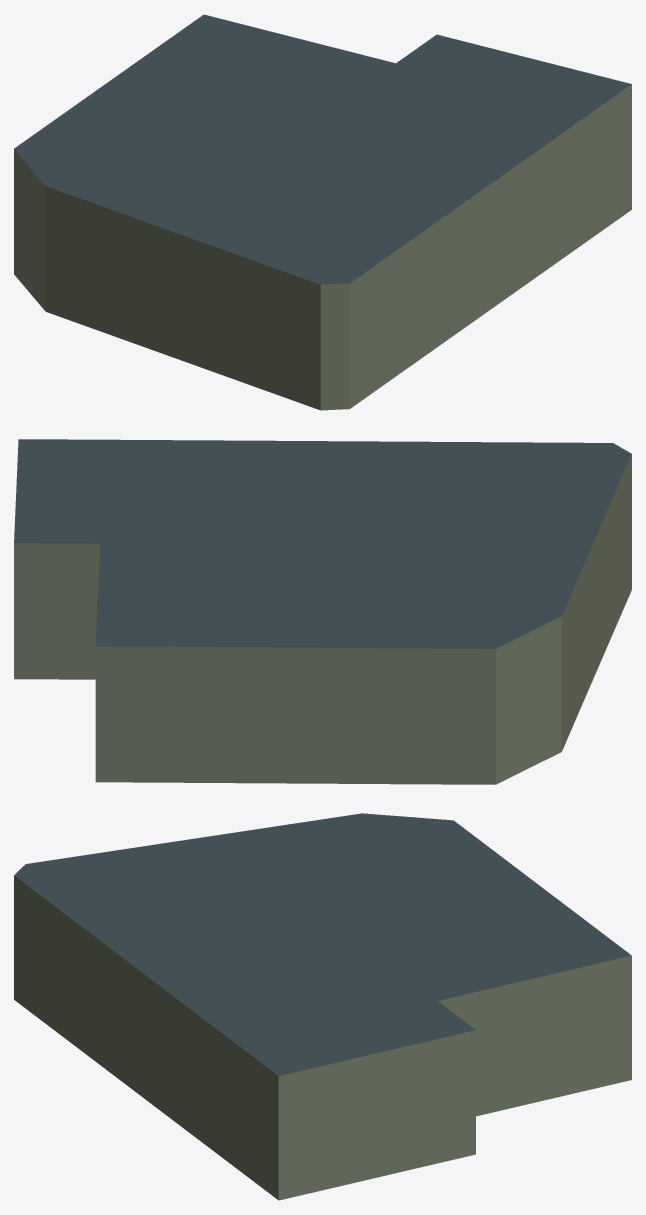
File: nyc-1022624-0.glb
3 views of the same model, one above another, from view 1: azimuth 30°, elevation 25°; view 2: azimuth 150°, elevation 25°; view 3: azimuth 270°, elevation 25° (orthographic). The views are drawn at different scales.
Visible parts, largest first — view 1: nyc-1022624-0; view 2: nyc-1022624-0; view 3: nyc-1022624-0.
Boxes of the visible parts, <box> form: nyc-1022624-0: <box>14,14,631,410</box>; nyc-1022624-0: <box>14,439,631,784</box>; nyc-1022624-0: <box>14,813,631,1200</box>.
Size of the model in its own units: 84.74 by 18.69 by 84.18.
